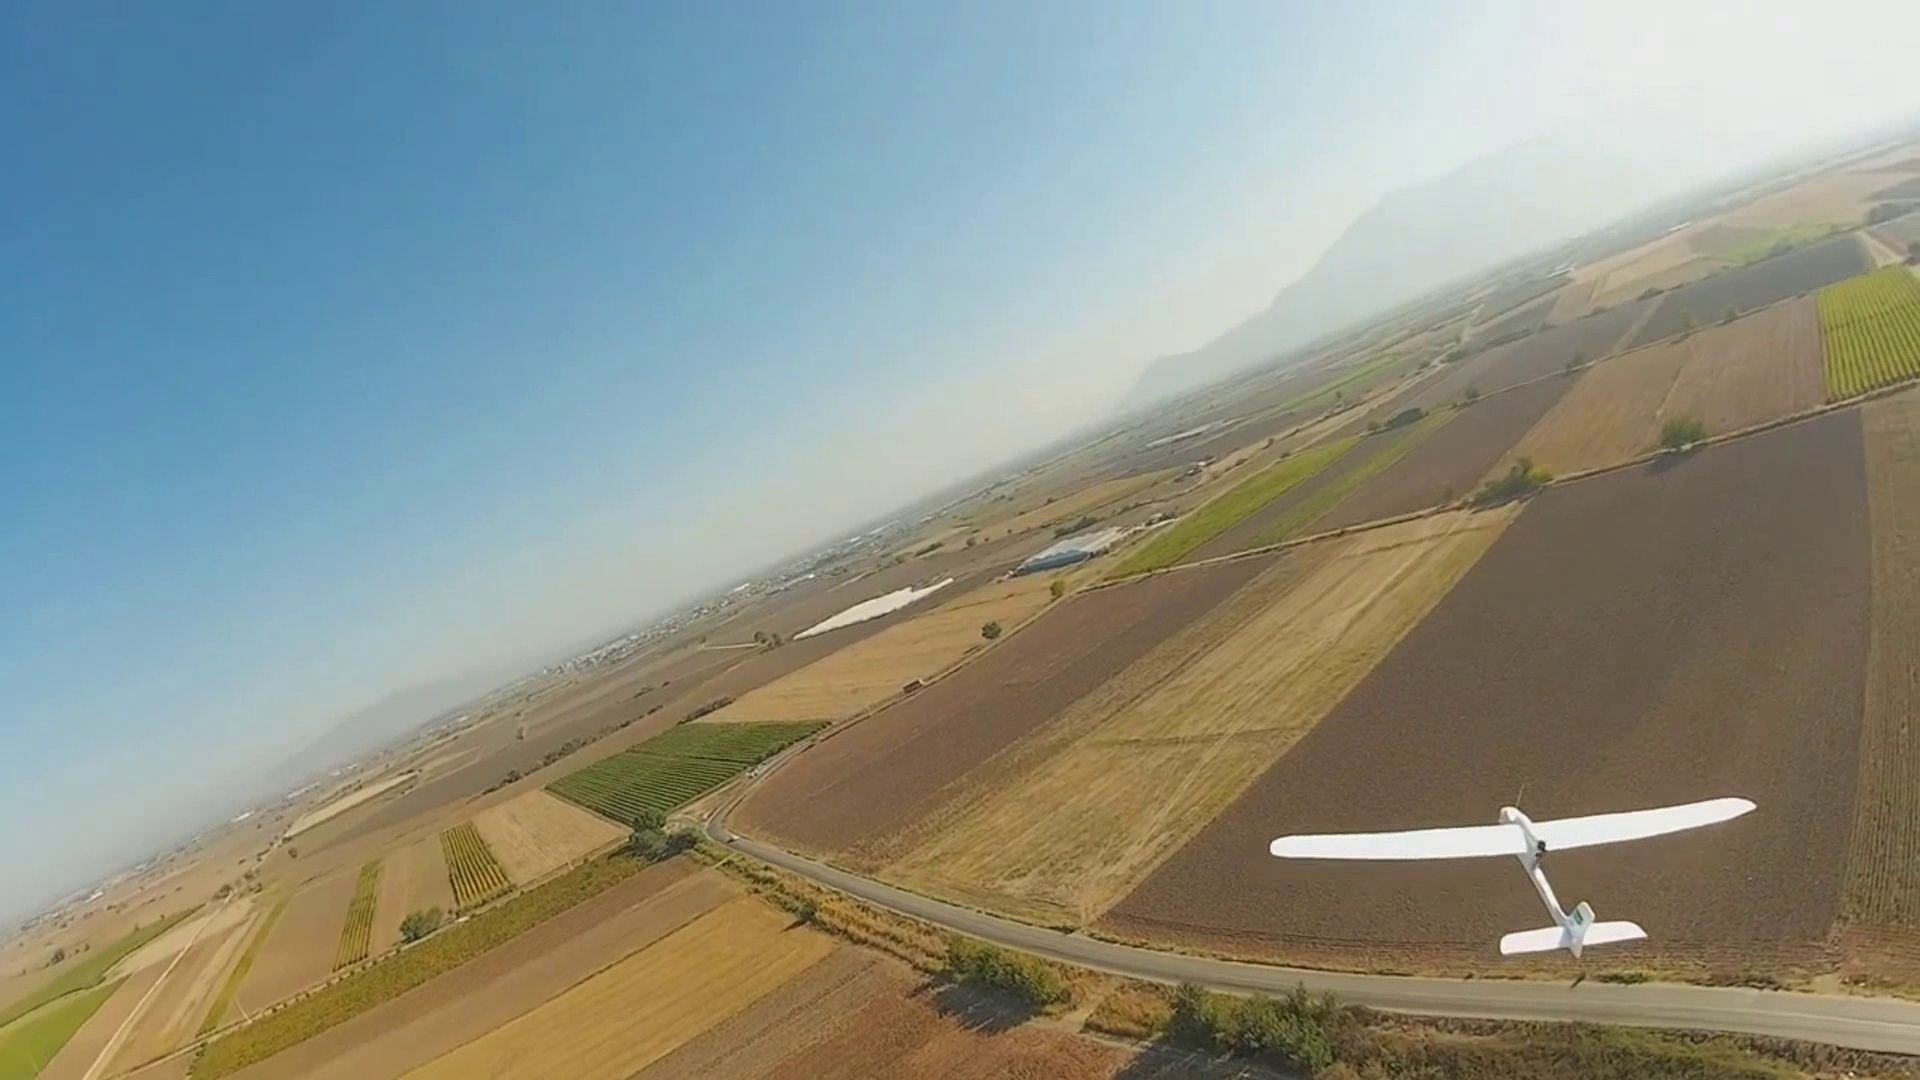airplane: (1269, 797, 1757, 962)
